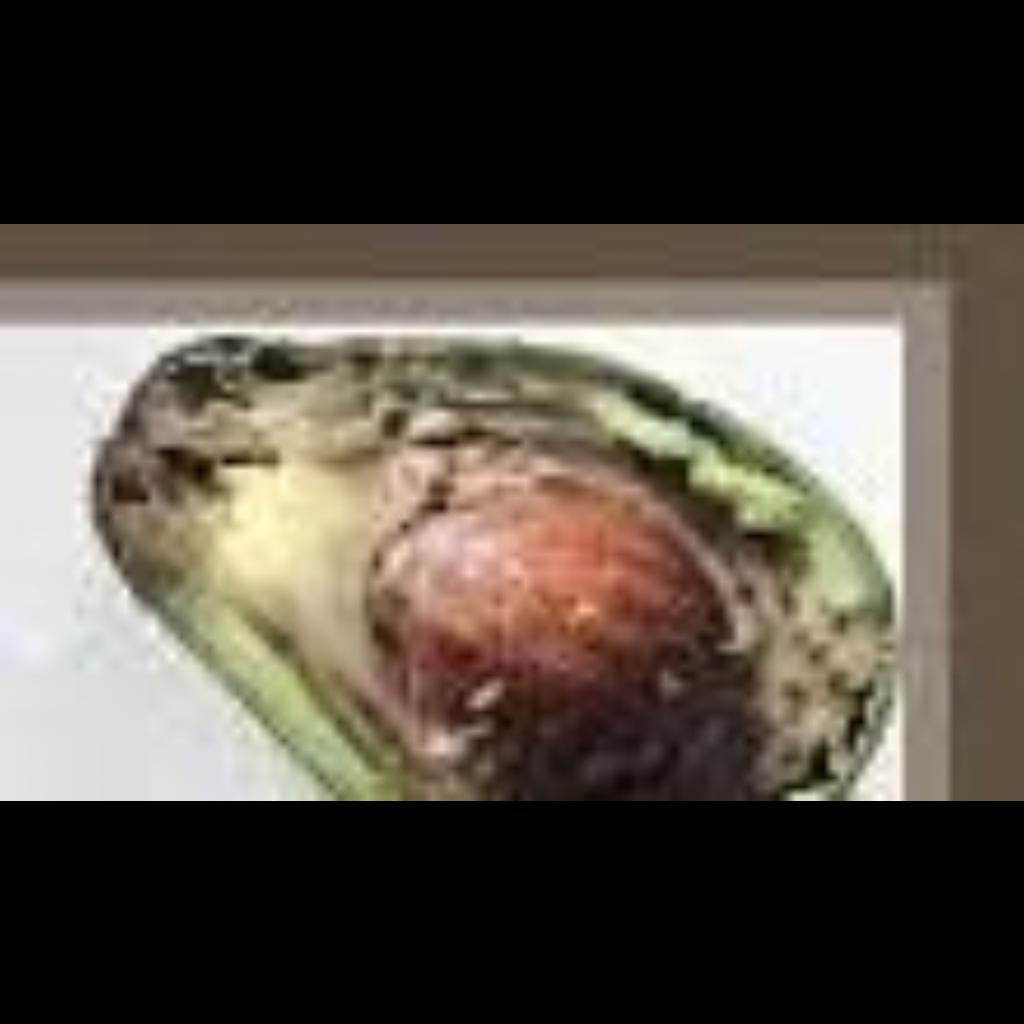Anthracnose: (74, 325, 904, 781)
